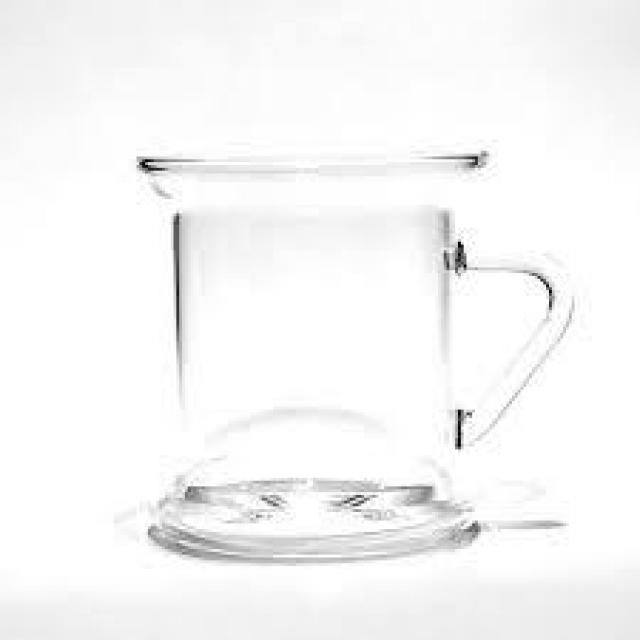non-organic waste: (109, 149, 579, 565)
